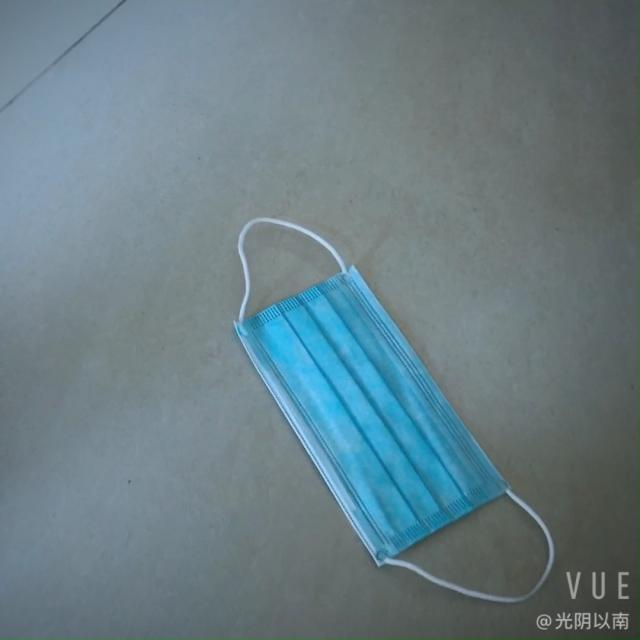non-organic waste: (222, 259, 518, 562)
